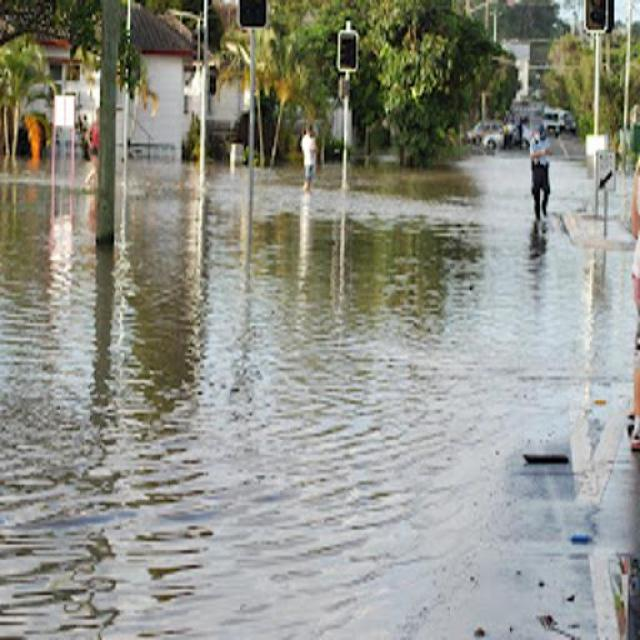puddle: (2, 236, 503, 608), (135, 164, 520, 280), (2, 166, 116, 303)
